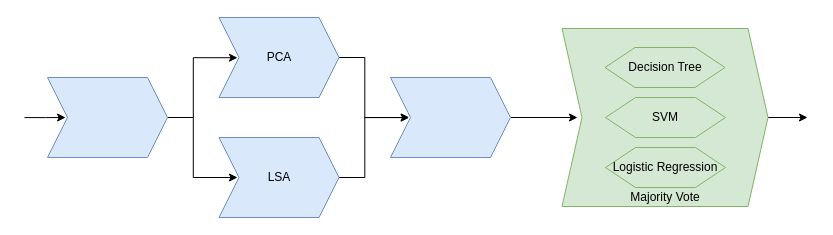
Image size: 833x235. Some labels were removed from this diagram. Here are the shapes that lost their labels. From the top down, the centre of each, then its label:
(107,117): One-hot Encoder
(450,117): Feature Union
